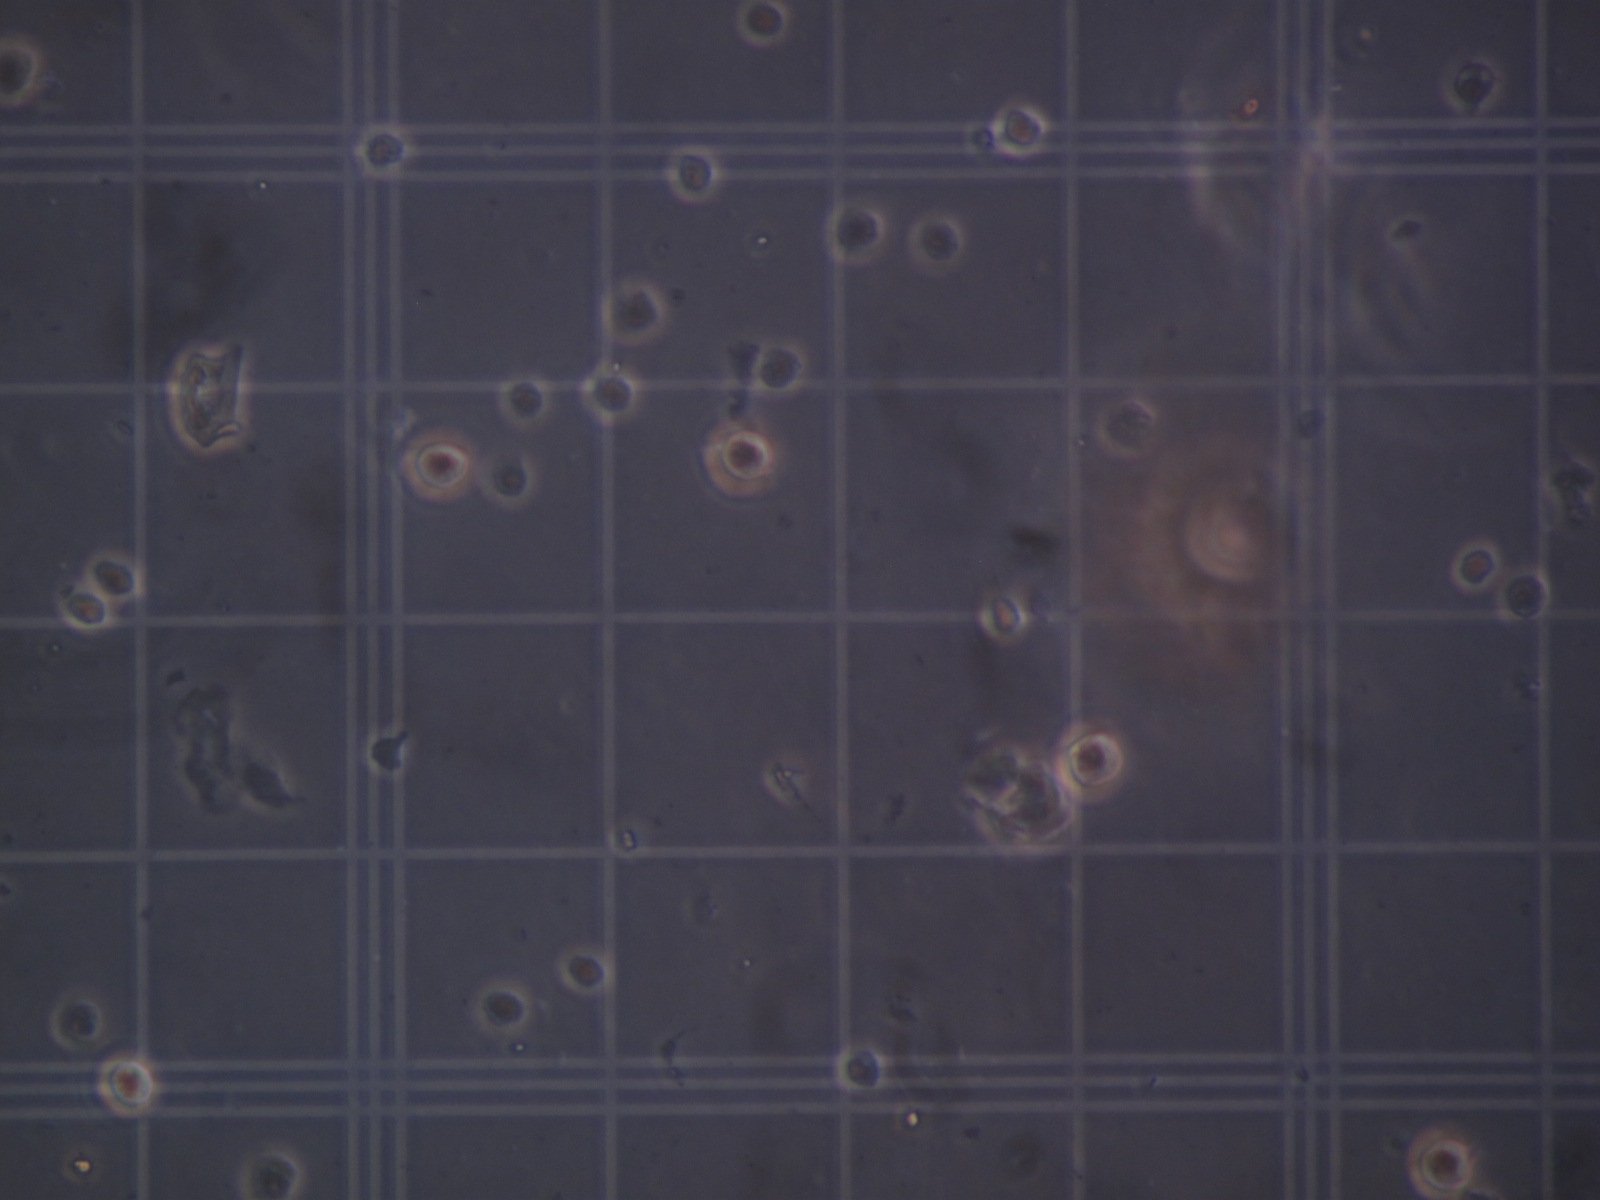hemo: (990, 756, 1081, 855), (702, 418, 784, 497), (1054, 721, 1126, 803), (1407, 1124, 1480, 1200), (402, 427, 477, 500), (824, 199, 888, 266), (602, 279, 666, 345), (1095, 395, 1159, 459), (238, 1143, 306, 1200), (49, 989, 110, 1053), (97, 1055, 157, 1118), (1443, 54, 1503, 115), (580, 366, 639, 424), (480, 447, 535, 508), (665, 145, 721, 204), (991, 101, 1048, 158), (907, 213, 965, 268), (84, 551, 144, 603), (472, 982, 530, 1034), (1, 37, 42, 110), (357, 124, 412, 176), (498, 374, 551, 429), (753, 342, 806, 395), (1498, 568, 1551, 621), (835, 1042, 887, 1094), (978, 590, 1027, 643), (559, 945, 612, 995), (1451, 539, 1500, 591), (60, 587, 112, 632), (736, 3, 789, 45), (365, 729, 411, 776)
